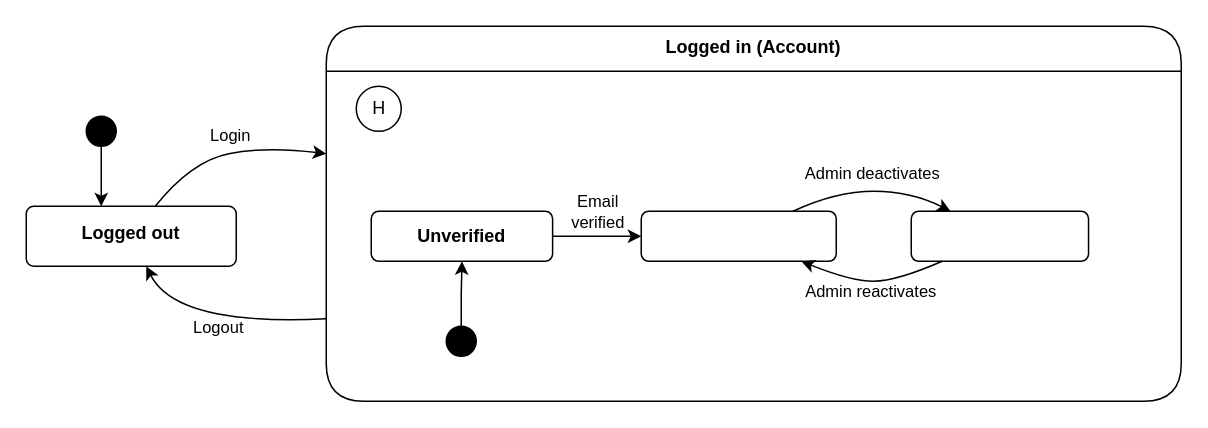
The diagram is 1208 pixels wide and 428 high, and some of its shapes have lost their labels. Each missing label, with the centre of its shape:
Active: the point at 738,235
Inactive: the point at 999,235
